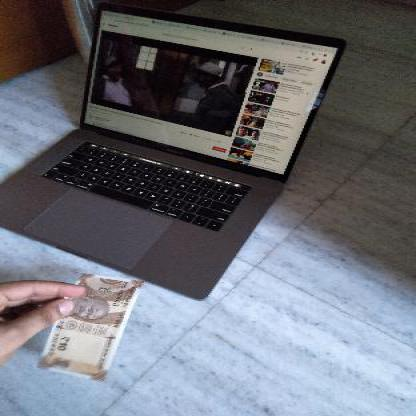New10Front: (44, 271, 139, 381)
